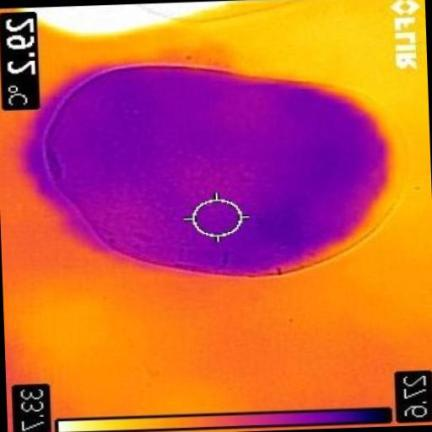mango: (45, 67, 405, 272)
